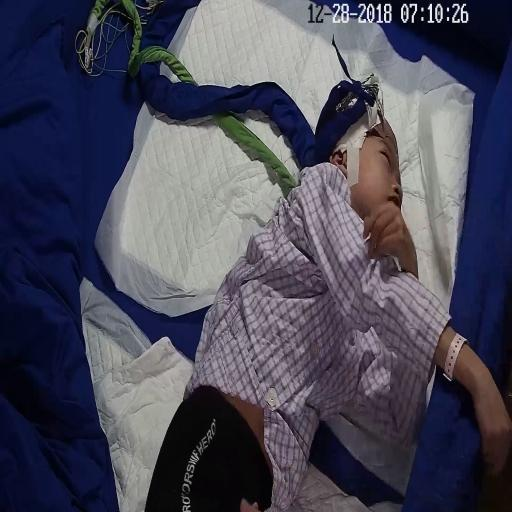Seizure: (329, 104, 406, 212)
